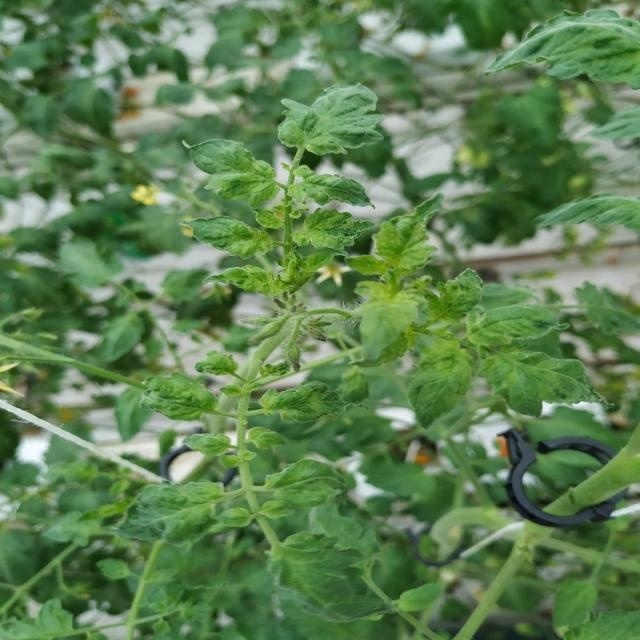T_L_H: (278, 84, 384, 155), (114, 484, 225, 546), (185, 217, 274, 260)
T_L_R: (479, 352, 606, 417), (190, 140, 280, 206), (409, 341, 474, 430), (374, 194, 442, 276), (468, 306, 566, 347), (261, 382, 353, 422), (141, 374, 219, 421), (294, 210, 374, 251), (429, 270, 484, 324), (289, 175, 373, 207), (209, 266, 284, 297)
